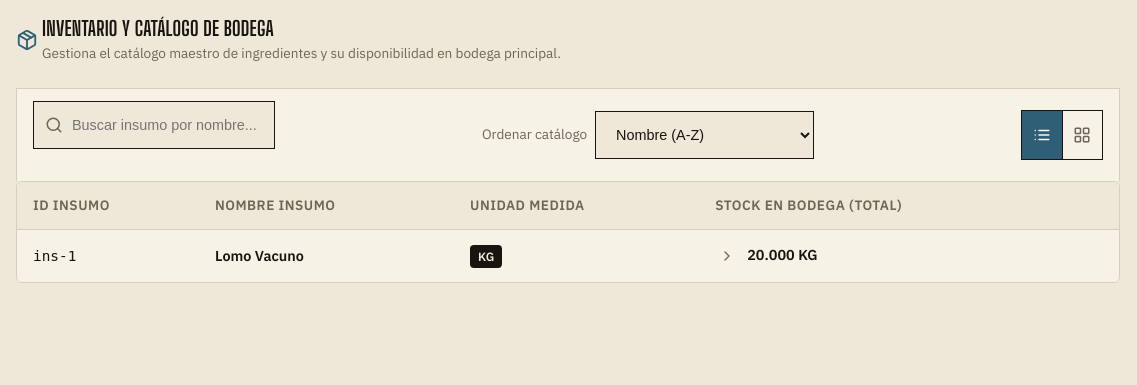
Test: TK-096-FE: InsumoCatalogPanel — desglose de stock por sub-sector (US-025) › muestra el total y despliega el desglose por sector
This screenshot has width=1137, height=385.
Check: the text "20.000 KG" is shown, box [699, 230, 1065, 282]
Click the 3rd button. click: coordinates (727, 256)
box: [715, 244, 739, 268]
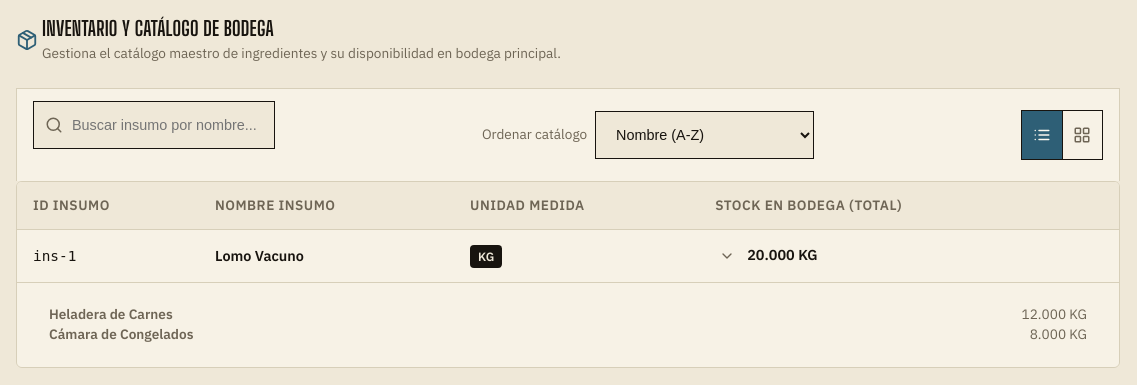
Check: the text "Heladera de Carnes" is shown, box [49, 305, 173, 325]
Check: the text "Cámara de Congelados" is shown, box [49, 325, 193, 345]
